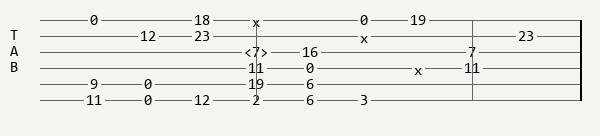0: (90, 13, 102, 27), (144, 77, 156, 91), (144, 93, 156, 107), (306, 61, 318, 75), (360, 13, 372, 27)
11: (86, 93, 106, 107), (248, 61, 268, 75), (464, 61, 484, 75)
12: (140, 29, 160, 43), (194, 93, 214, 107)
16: (302, 45, 322, 59)
18: (194, 13, 214, 27)
19: (248, 77, 268, 91), (410, 13, 430, 27)
2: (252, 93, 264, 107)
23: (194, 29, 214, 43), (518, 29, 538, 43)
3: (360, 93, 372, 107)
6: (306, 77, 318, 91), (306, 93, 318, 107)
7: (468, 45, 480, 59)
9: (90, 77, 102, 91)
harmonic: (244, 45, 272, 59)
x: (252, 15, 264, 26), (360, 31, 372, 42), (414, 63, 426, 74)
